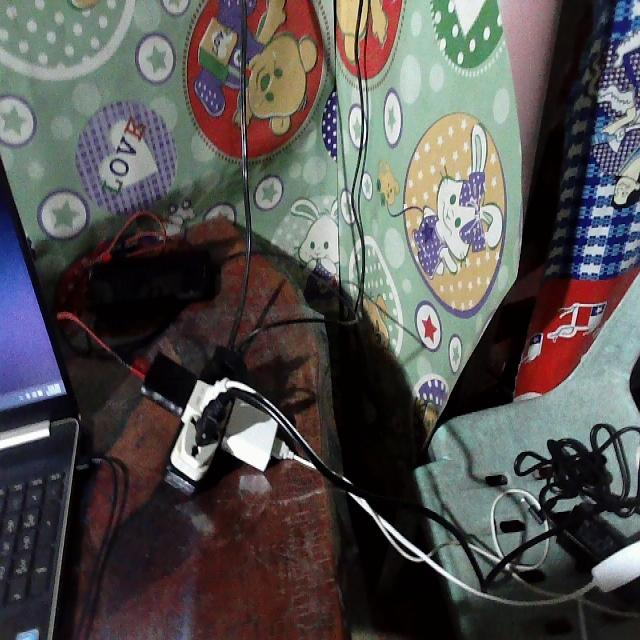-: (136, 332, 295, 501)
